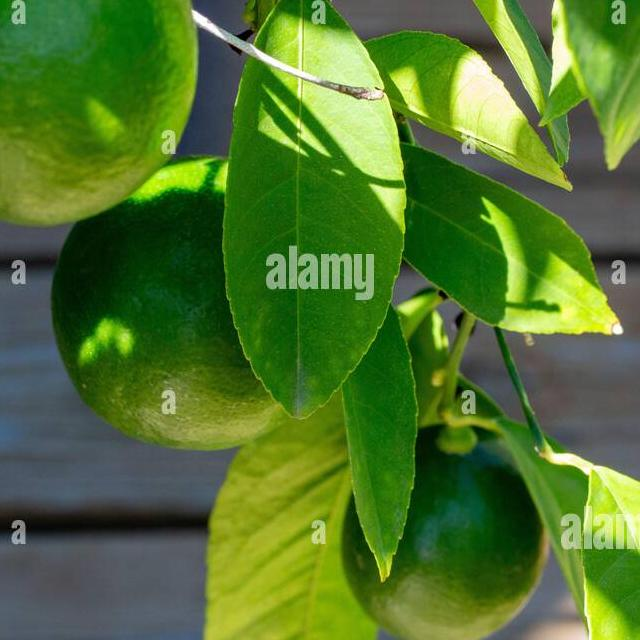lime: (51, 160, 284, 453), (357, 428, 552, 640)
